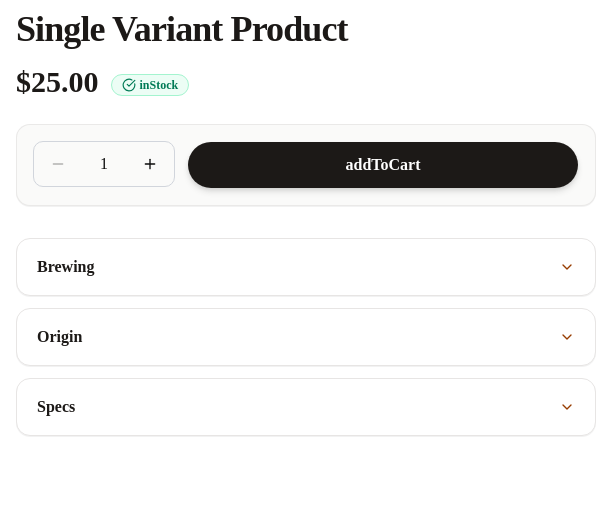
Test: ProductDetails › shows the master SKU when a product has no custom variants
This screenshot has width=613, height=508.
Click the button "Specs" at (56, 406), box [17,379,595,435]
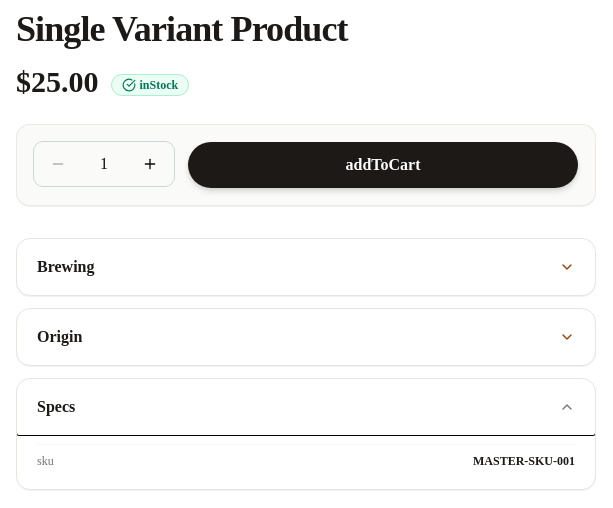
Now the text "sku" is shown, box [37,453,54,469]
Now the text "MASTER-SKU-001" is shown, box [473,453,575,469]
